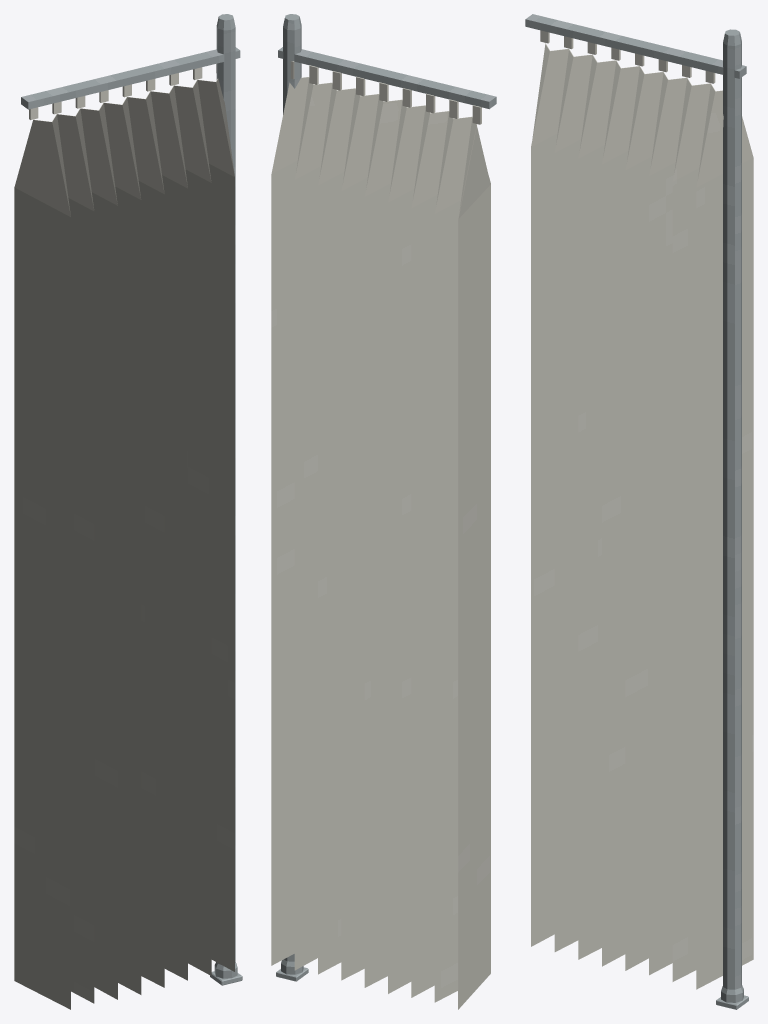
File: pool_curtain_end.glb
The picture shows the model from 3 angles, left to right: view 1: azimuth 30°, elevation 25°; view 2: azimuth 150°, elevation 25°; view 3: azimuth 330°, elevation 25°; orthographic projection.
Visible parts, largest first — view 1: core_pool_curtain_end; view 2: core_pool_curtain_end; view 3: core_pool_curtain_end.
Part boxes in pixels (<box>): core_pool_curtain_end: <box>14,14,242,1009</box>; core_pool_curtain_end: <box>271,14,496,1009</box>; core_pool_curtain_end: <box>525,14,753,1009</box>.
Size of the model in its own units: 0.6 by 2.6 by 0.22.
2 materials, 2 textured.
